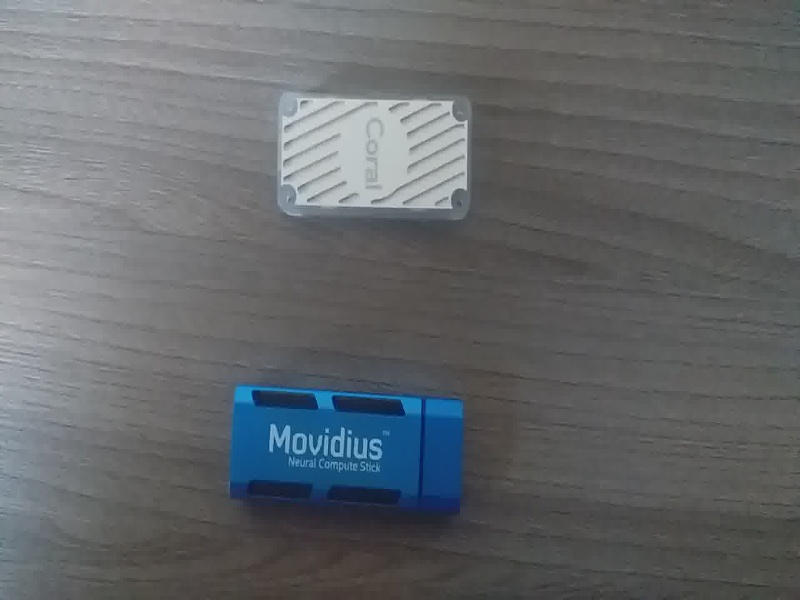coral: (266, 86, 490, 233)
movidius: (220, 374, 483, 532)
